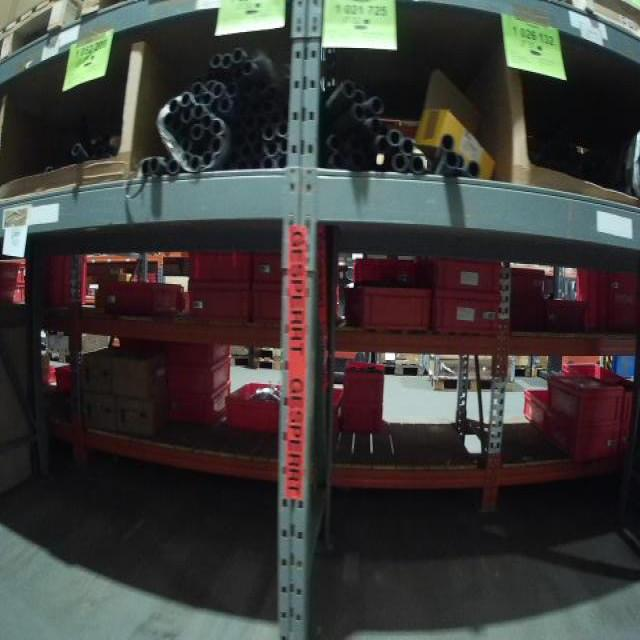pallet: (429, 377, 504, 391), (376, 363, 423, 379)
small_load_carrier: (521, 383, 621, 456), (341, 285, 432, 333), (576, 269, 638, 335), (543, 371, 624, 420), (90, 278, 186, 315), (418, 256, 502, 295), (432, 295, 502, 339), (343, 361, 386, 431), (166, 380, 232, 423), (166, 353, 232, 395), (2, 250, 80, 283), (194, 281, 255, 323), (232, 381, 279, 434), (2, 282, 81, 308), (187, 253, 251, 281), (540, 295, 585, 333), (354, 259, 417, 286), (166, 344, 233, 367), (510, 268, 550, 303), (621, 376, 638, 456), (45, 359, 78, 392), (251, 255, 278, 280), (335, 388, 344, 433)
